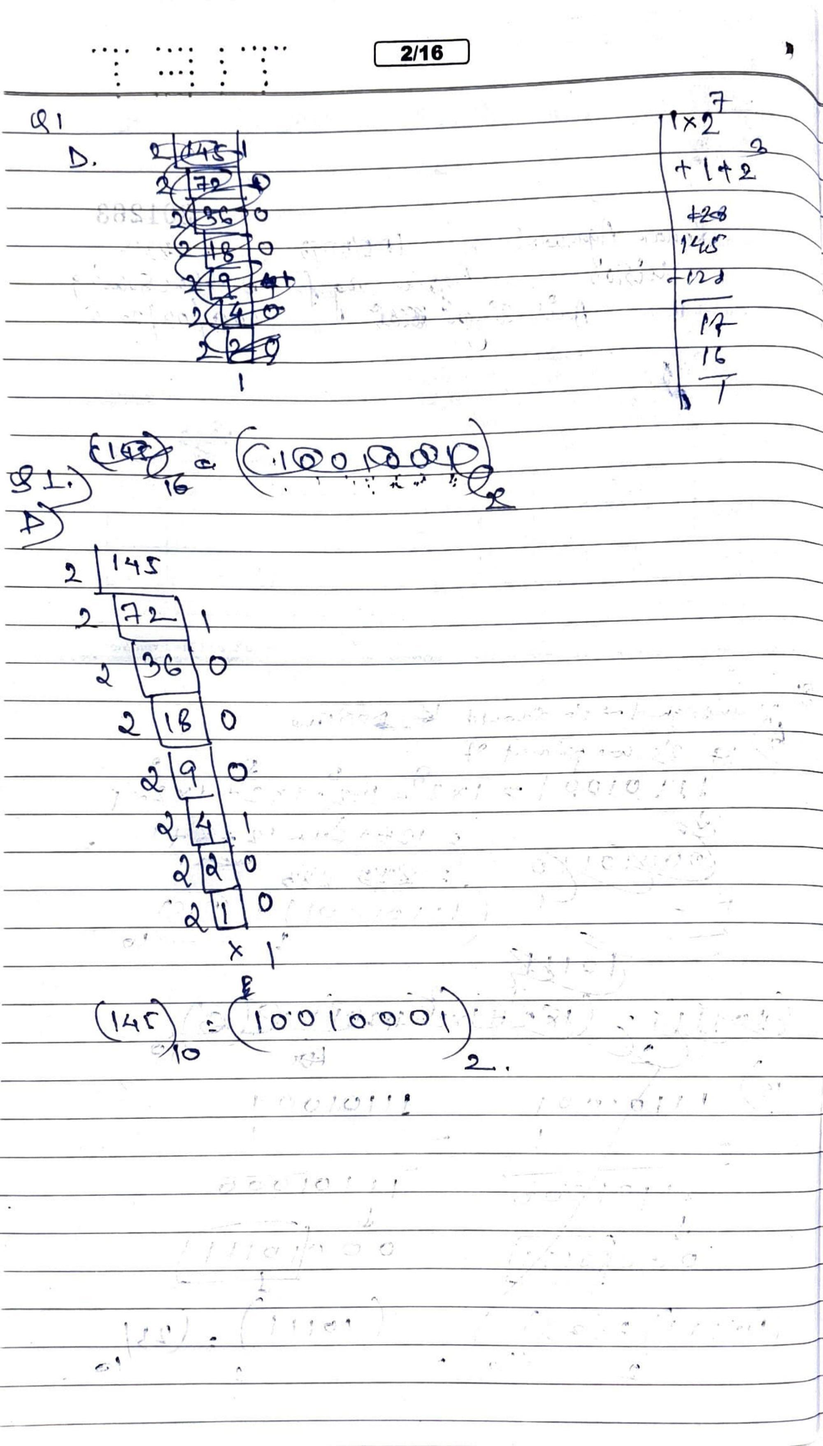cuttings: (149, 130, 303, 368), (230, 408, 526, 515), (84, 430, 195, 501), (688, 205, 730, 223), (234, 972, 254, 996), (194, 458, 217, 470)
